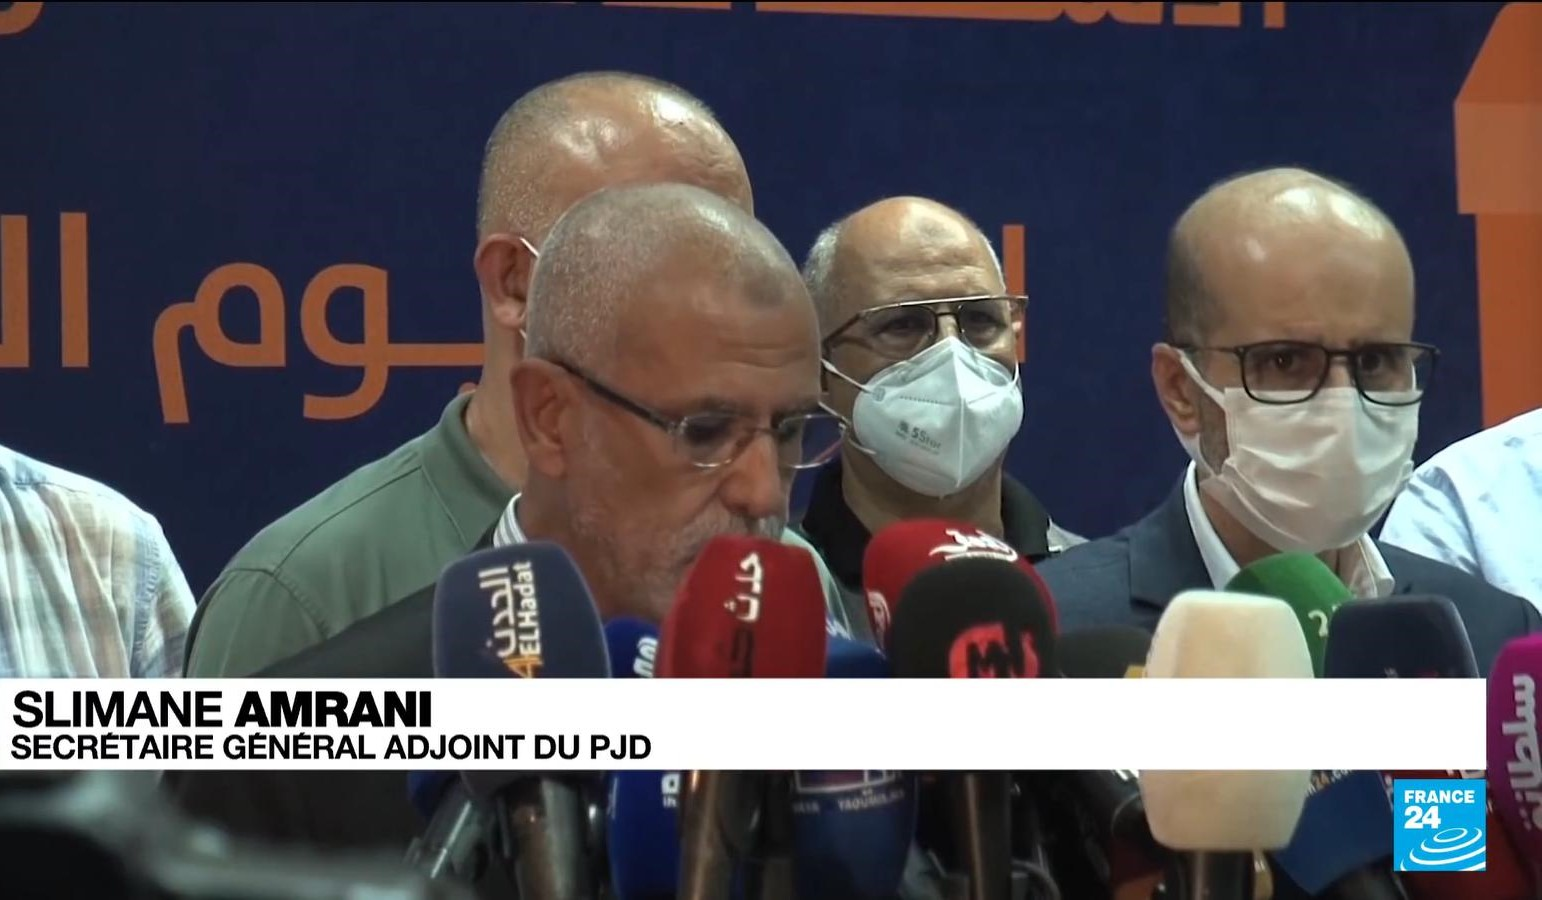with_mask: (1236, 336, 1406, 504), (868, 287, 1001, 460)
without_mask: (619, 374, 801, 540)
